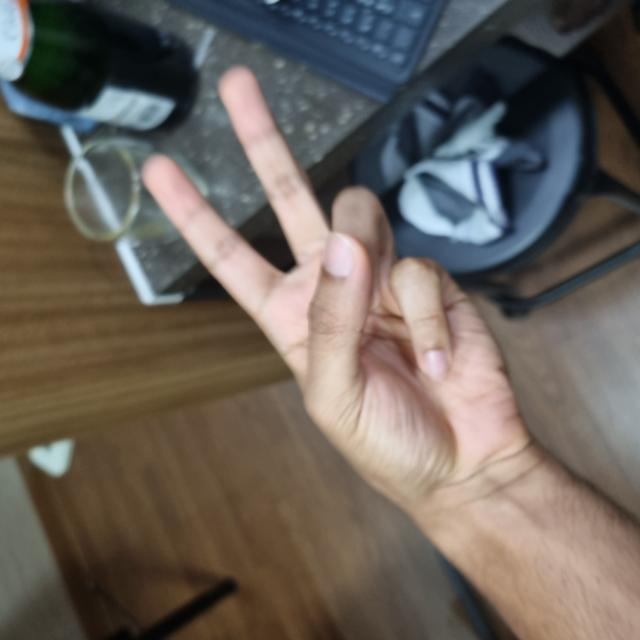Scissors: (138, 142, 574, 526)
